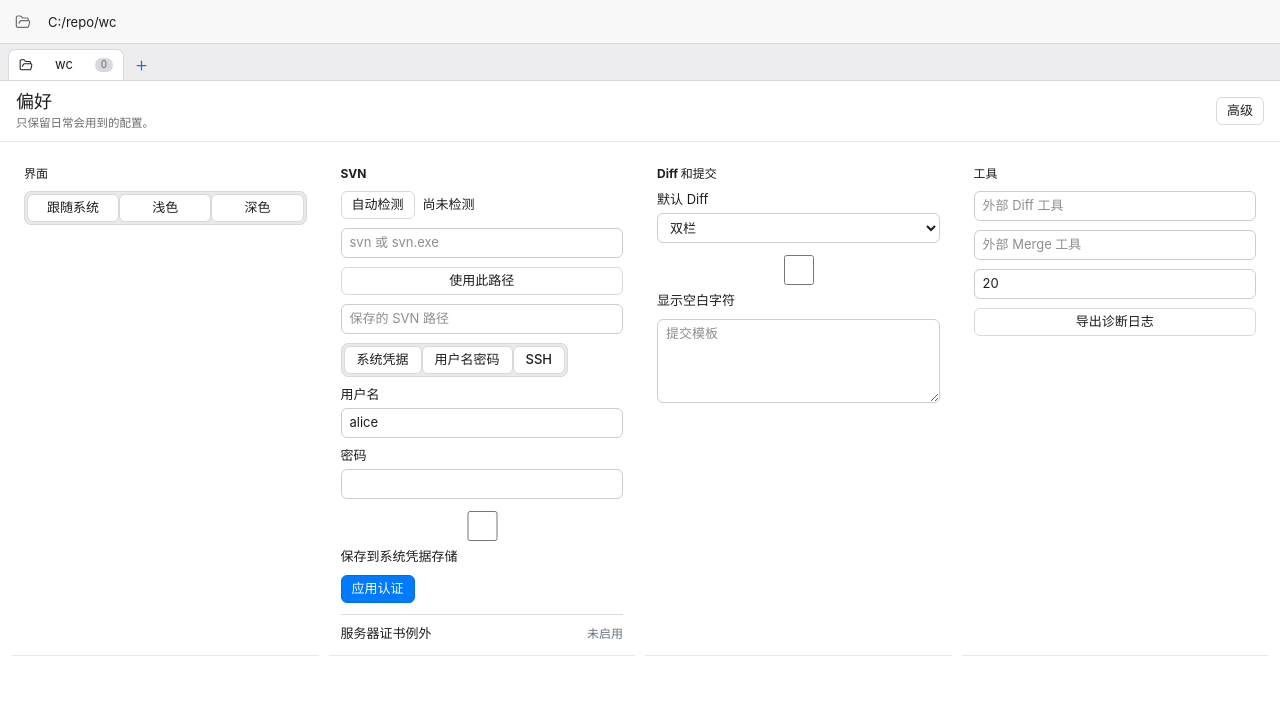
Test: App SVN operation completion › applies password authentication and clears the frontend password
Type "temporary-secret" into the password field labelled "密码" at (482, 484), box [340,469,623,499]
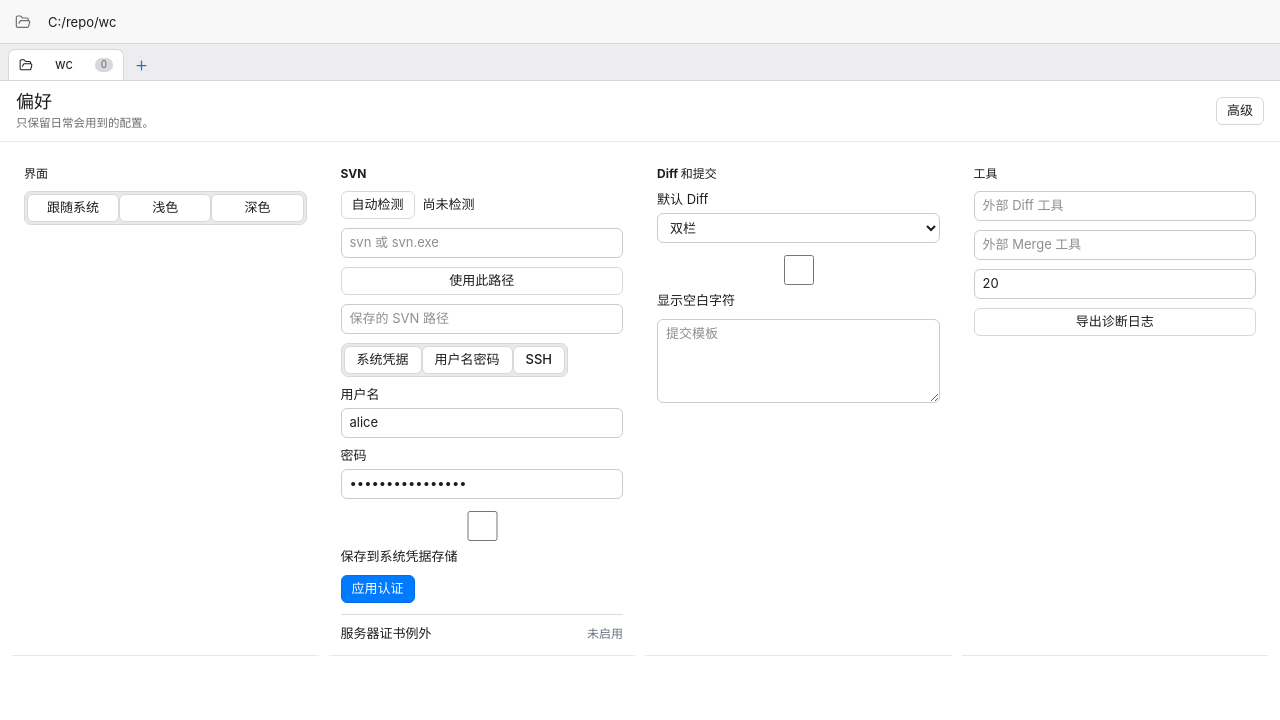
Click the button "应用认证" at (378, 589), box [340,575,414,603]
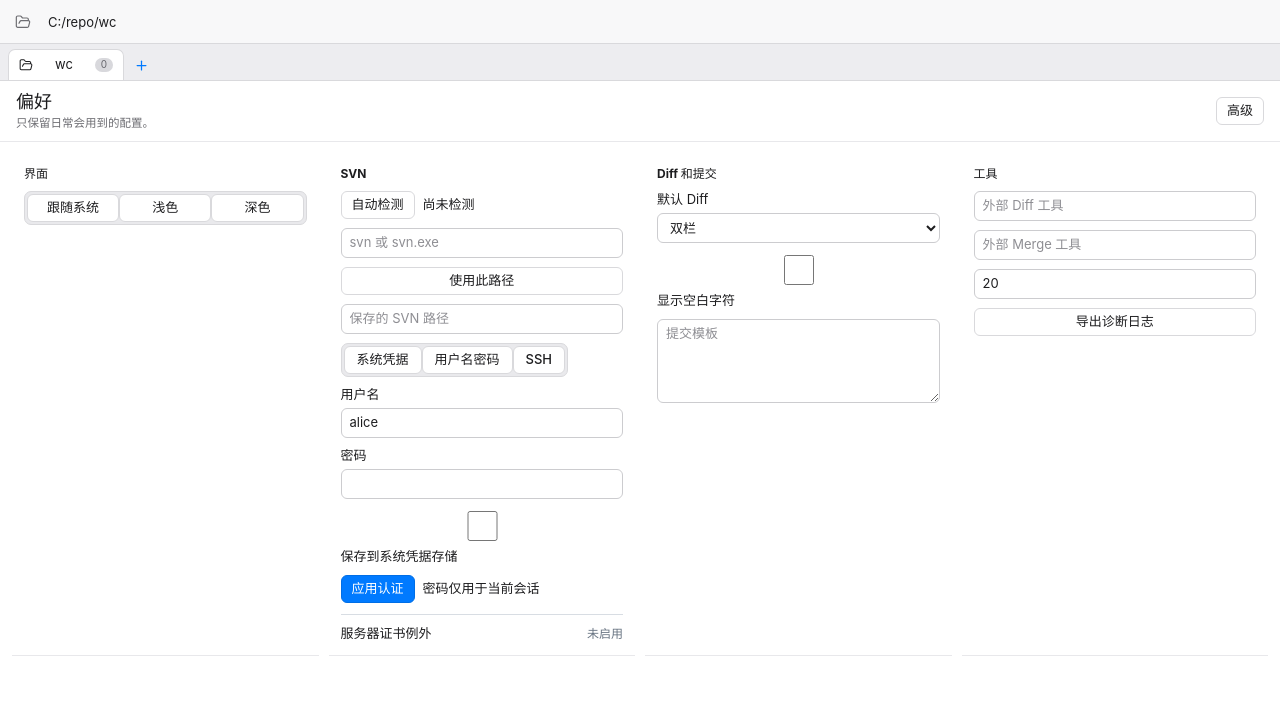
Expected: the password field labelled "密码" is empty, [340,469,623,499]
Expected: the text "密码仅用于当前会话" is shown, [422,580,540,598]
